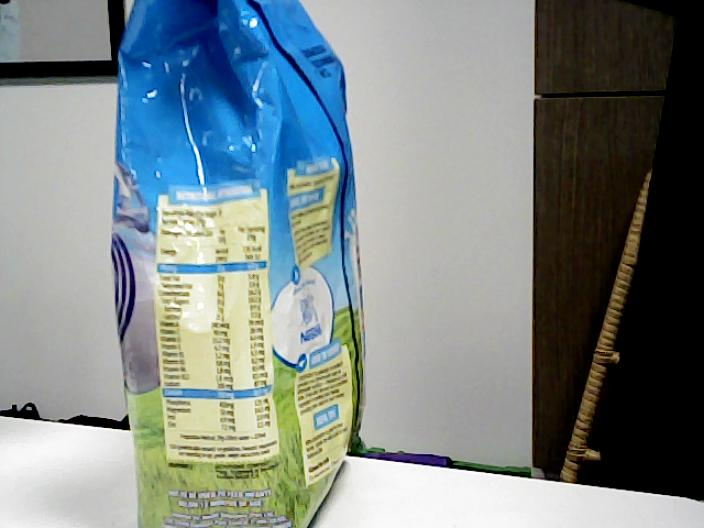Adult_Milk_600-699g_Halal_NonHealthy: (107, 1, 367, 528)
